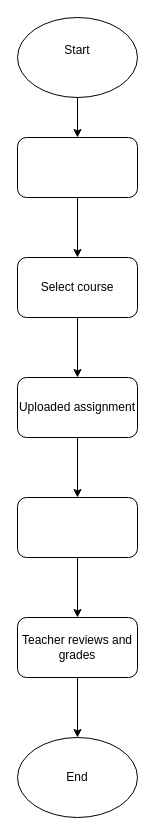
Some shapes in this 155 by 835 pixel diagram are drawn without their labels. Here are the shapes that lost their labels. From the top down, the box of each, then its label:
(16, 136, 138, 198): Student logs in
(16, 496, 138, 558): System save submission
